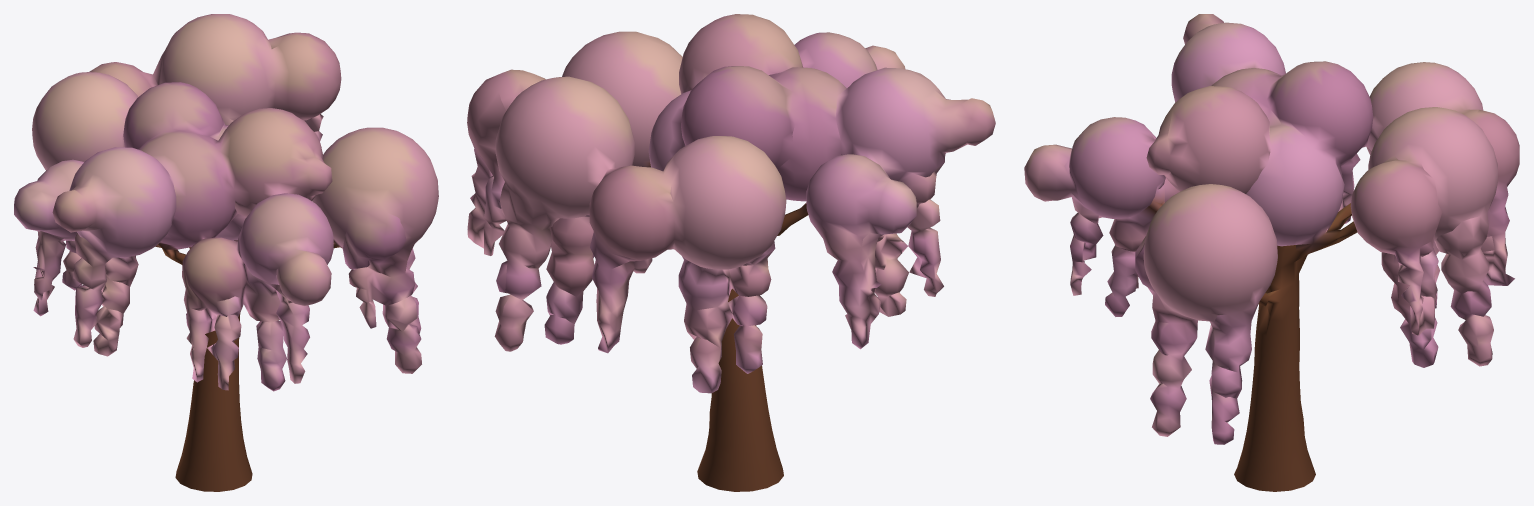
The model's file is weeping-tree-1-lod1.obj.
3 views of the same model, side by side, from view 1: azimuth 30°, elevation 25°; view 2: azimuth 150°, elevation 25°; view 3: azimuth 270°, elevation 25° (orthographic). The views are drawn at different scales.
Visible parts, largest first — view 1: simplified; view 2: simplified; view 3: simplified.
Boxes of the visible parts, bbox=[...] form: simplified: bbox=[14, 14, 438, 491]; simplified: bbox=[467, 14, 995, 491]; simplified: bbox=[1024, 14, 1519, 491].
Bounding box in the file's own units: 390 × 379 × 422.
